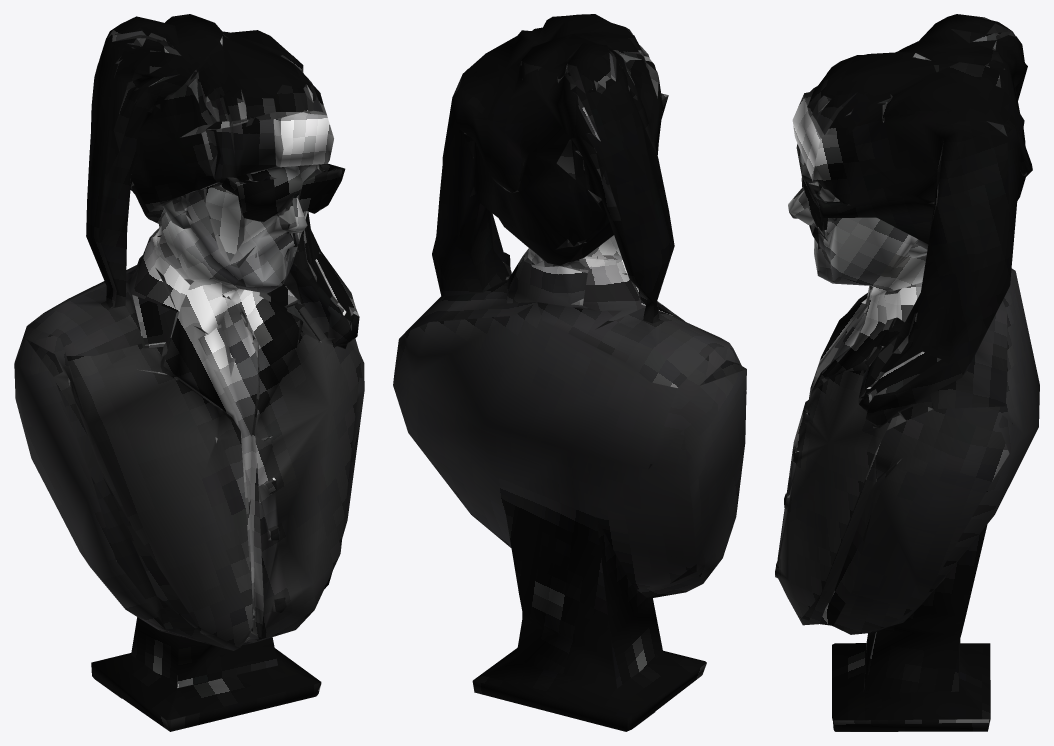
The model's file is andy-wire.glb.
3 renders of one model, left to right at view 1: azimuth 30°, elevation 25°; view 2: azimuth 150°, elevation 25°; view 3: azimuth 270°, elevation 25°, orthographic.
Visible parts, largest first — view 1: Mesh1.0; view 2: Mesh1.0; view 3: Mesh1.0.
Boxes of the visible parts, left/top/right/bottom form: Mesh1.0: left=14, top=14, right=364, bottom=731; Mesh1.0: left=393, top=14, right=746, bottom=731; Mesh1.0: left=775, top=14, right=1039, bottom=731.
Size of the model in its own units: 0.9578 by 1.9 by 0.6888.
1 material, 1 textured.
